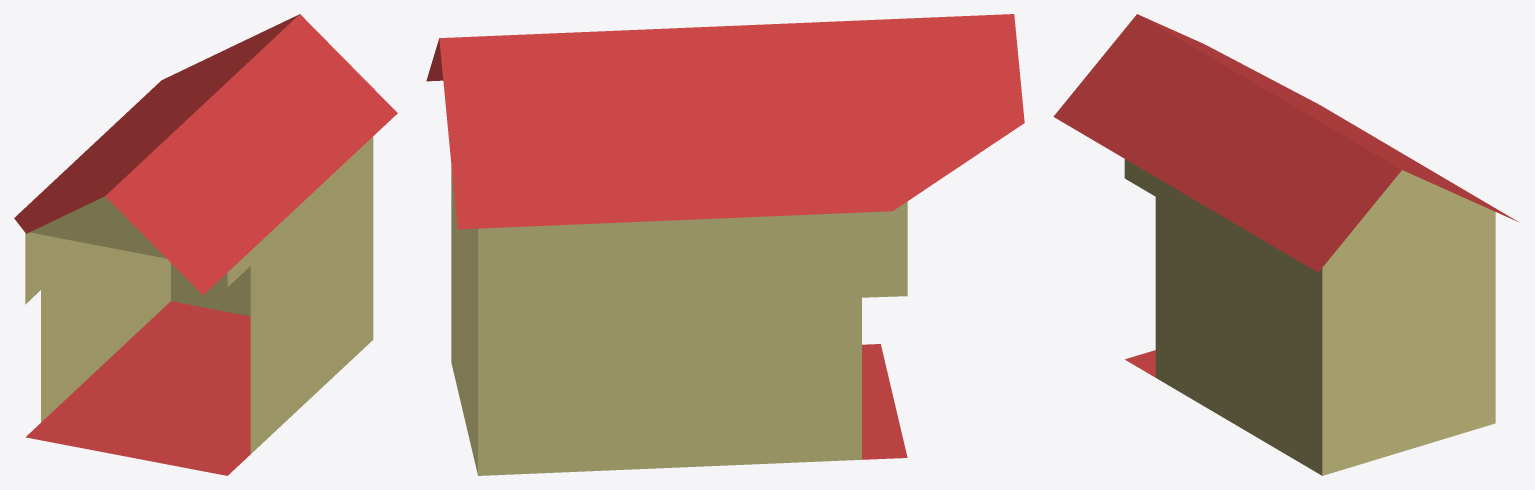
The picture shows the model from 3 angles, left to right: view 1: azimuth 30°, elevation 25°; view 2: azimuth 150°, elevation 25°; view 3: azimuth 270°, elevation 25°; orthographic projection. The views are drawn at different scales.
Size of the model in its own units: 26.62 by 26.04 by 17.9.
